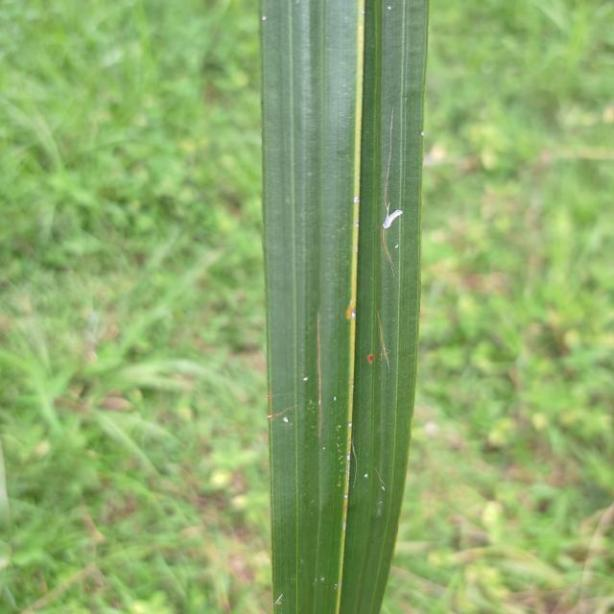Boron: (257, 0, 431, 612)
